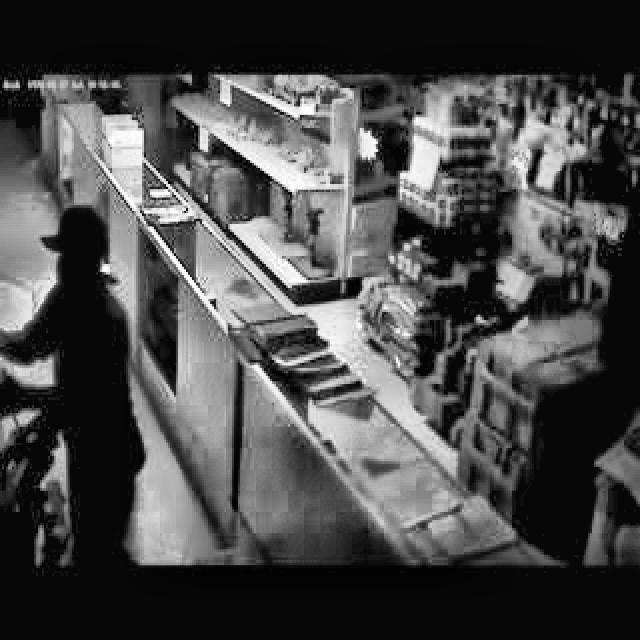Weapon: (21, 173, 209, 569)
